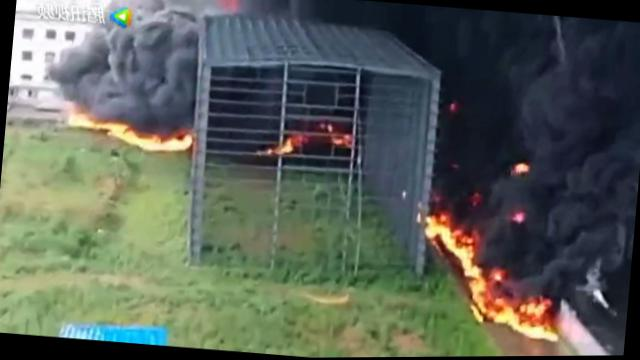fire: (138, 130, 192, 155), (469, 270, 492, 316), (522, 320, 561, 339), (106, 120, 139, 141), (520, 298, 552, 318), (460, 245, 479, 276), (494, 307, 522, 327), (424, 214, 446, 239), (72, 114, 106, 130), (274, 137, 295, 157), (440, 228, 458, 249), (456, 230, 477, 244), (334, 134, 354, 148), (513, 163, 530, 174), (453, 246, 462, 258)
